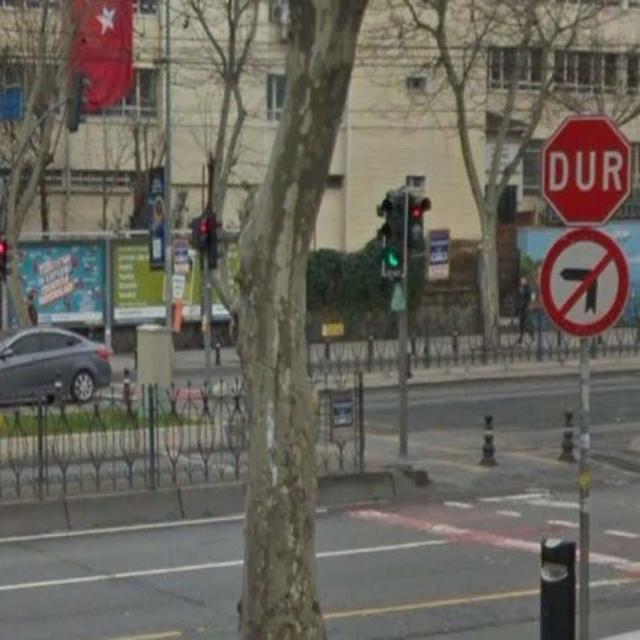dur: (540, 116, 632, 226)
soladonulmez: (542, 229, 629, 338)
yesil: (383, 192, 405, 277)
